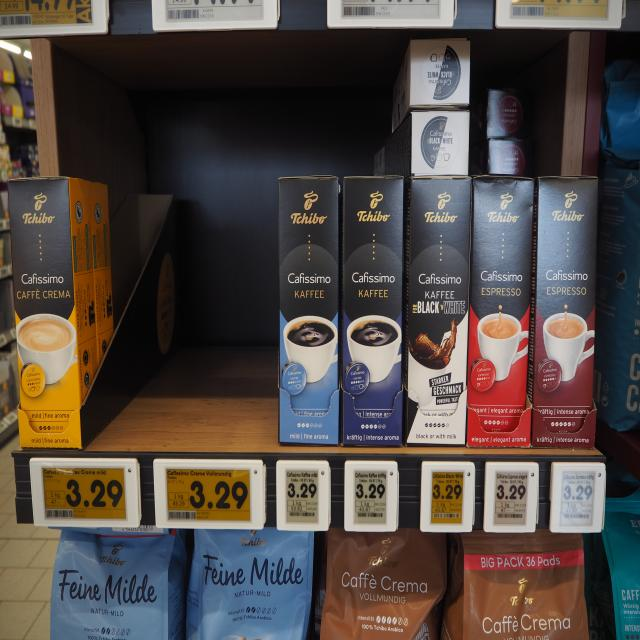Empty Shelf: (100, 175, 274, 451)
Simo CCMild bigpack: (6, 175, 84, 451)
Simo Es Elegant: (467, 172, 536, 449)
Simo Es Kraft: (530, 172, 601, 449)
Simo Kaffee BW: (404, 176, 473, 449)
Simo Kaffee Kraft: (341, 175, 405, 444)
Simo Kaffee Mild: (276, 175, 342, 445)
